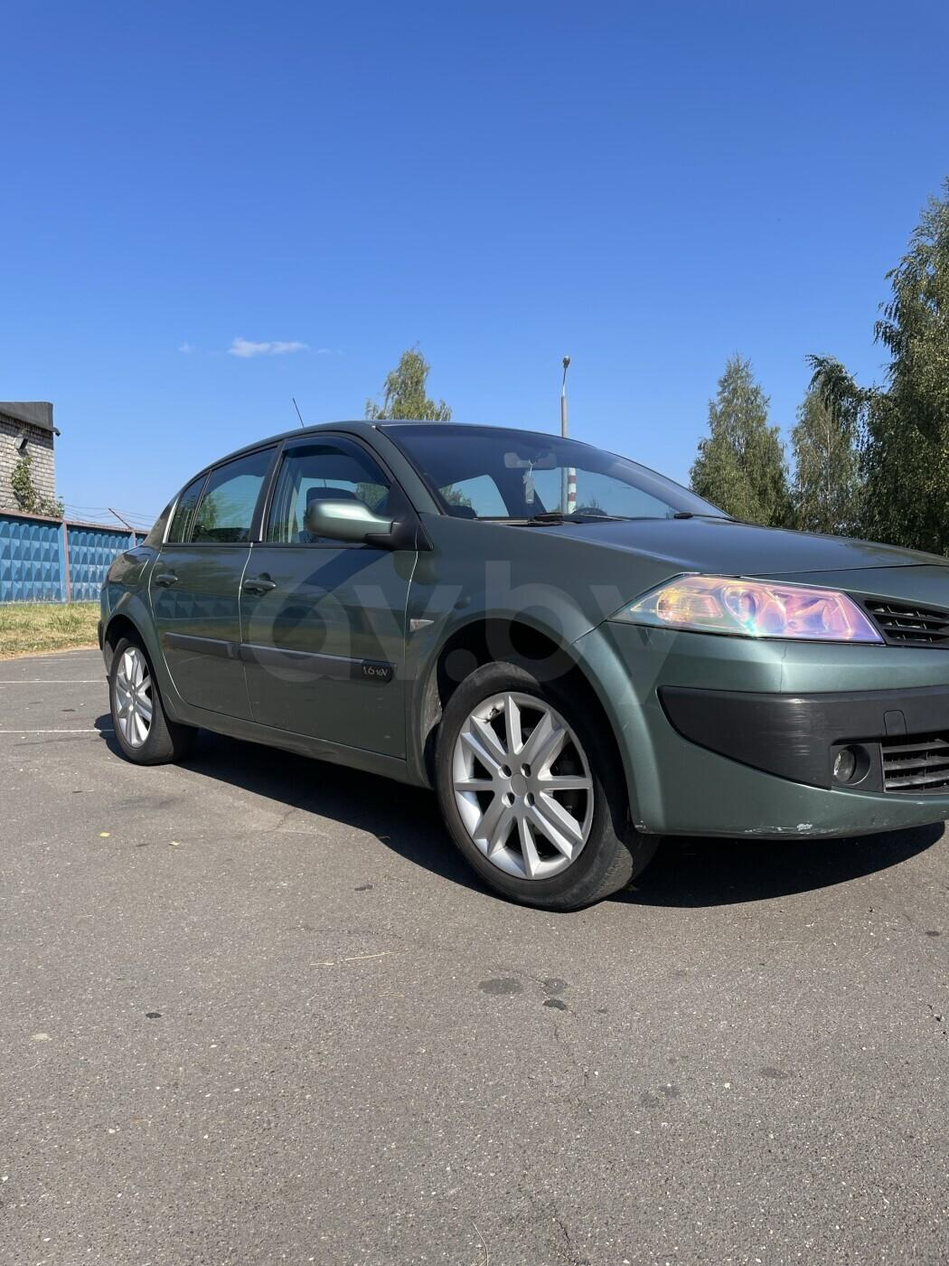Megane_2005-2009: (98, 416, 949, 902)
